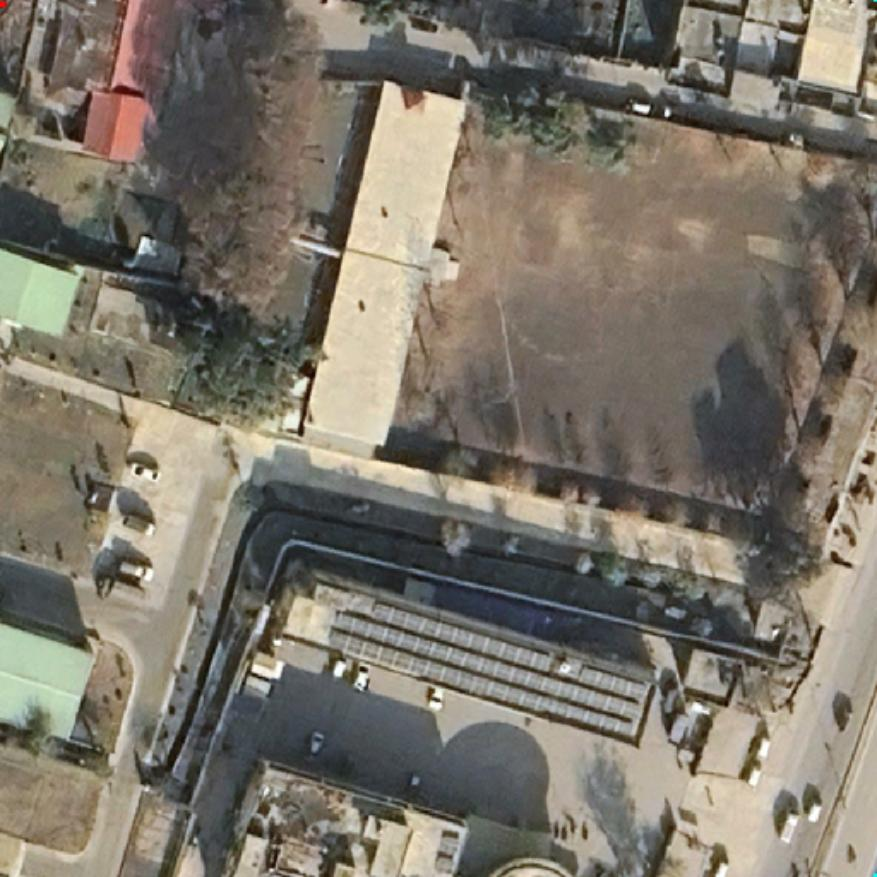Solarpanel: (323, 593, 653, 744)
